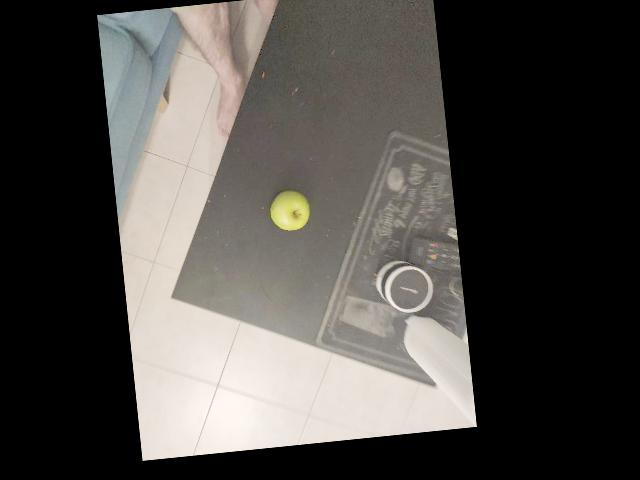apple: (204, 256, 254, 306)
